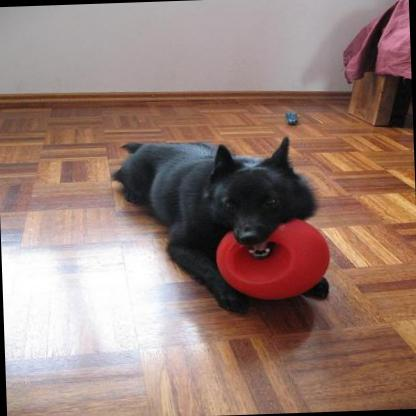schipperke: (105, 132, 332, 320)
